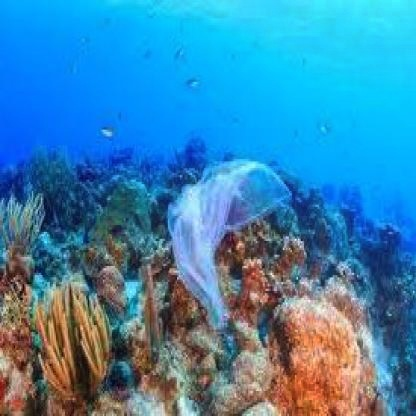pbag: (160, 155, 295, 334)
